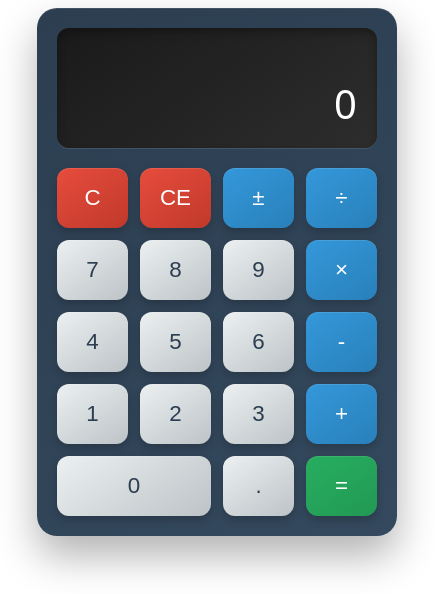
Scenario: Calculator Component › Basic Arithmetic Operations › performs multiplication correctly
Click the button "6": (258, 342) [223, 312, 294, 372]
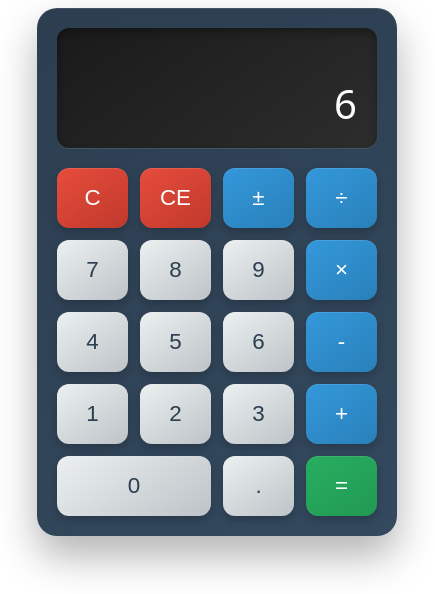
Click the button "×": (342, 270) [306, 240, 377, 300]
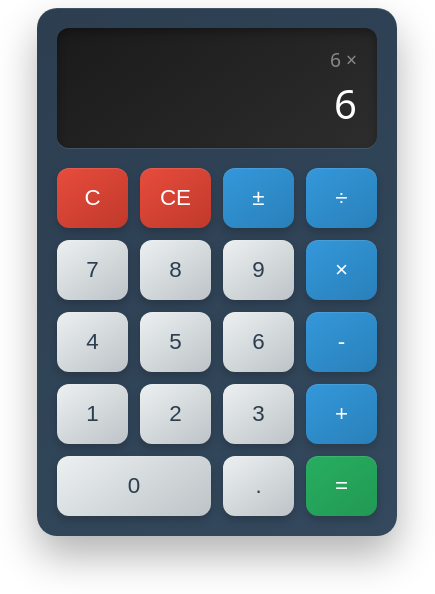
Click the button "7": (92, 270) [57, 240, 128, 300]
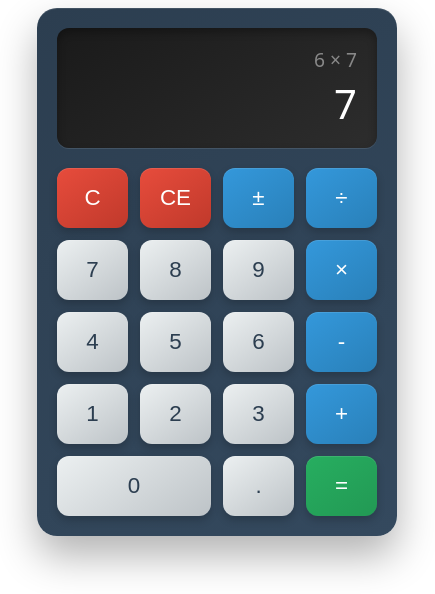
Click the button "=": (342, 486) [306, 456, 377, 516]
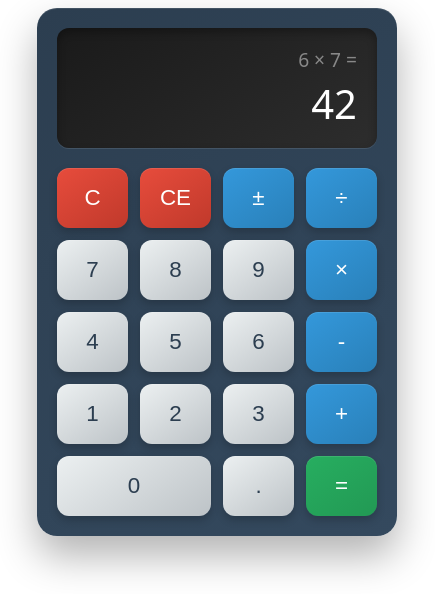
Result: the text "42" is shown at [311, 76, 357, 131]
